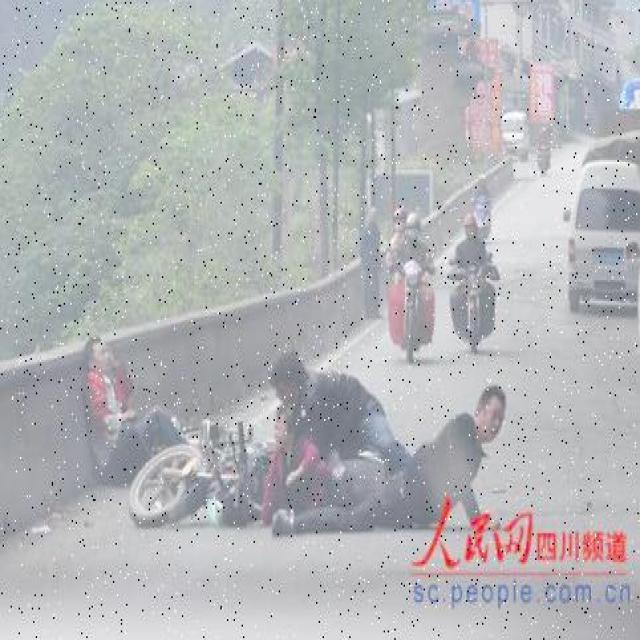fall: (279, 392, 511, 534)
